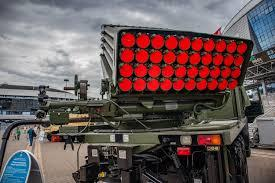MIL_SAM_TEL: (73, 22, 274, 183)
